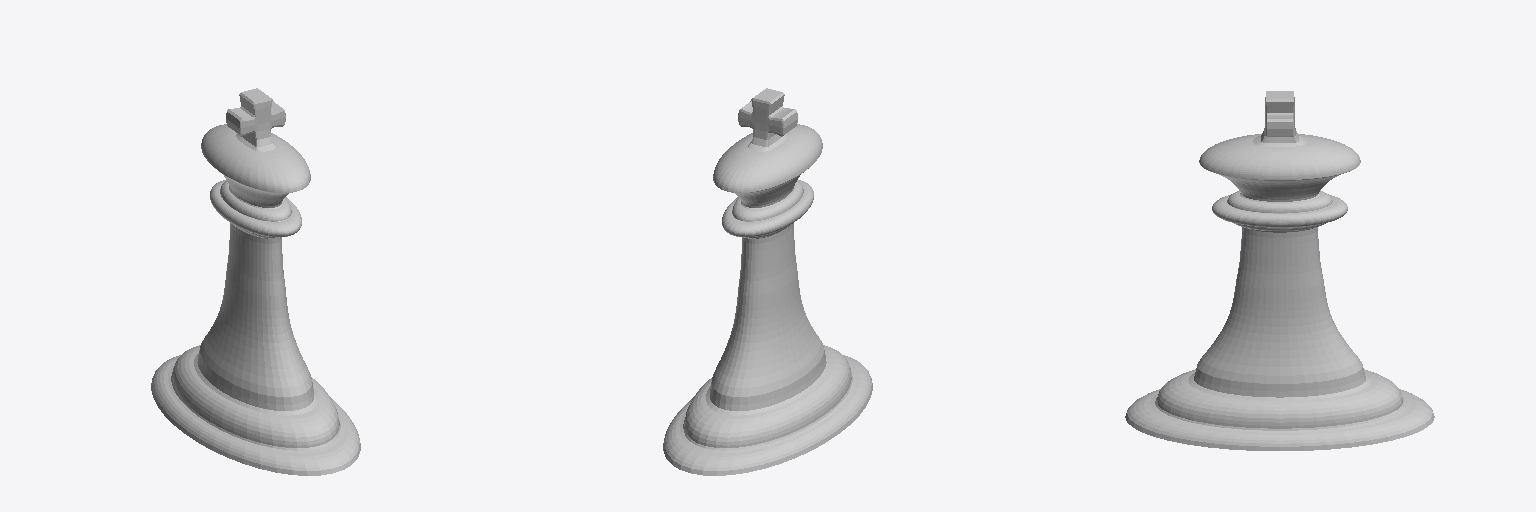
File: finalkingnear.obj
3 renders of one model, left to right at view 1: azimuth 30°, elevation 25°; view 2: azimuth 150°, elevation 25°; view 3: azimuth 270°, elevation 25°, orthographic.
Visible parts, largest first — view 1: white_king_Mesh.011; view 2: white_king_Mesh.011; view 3: white_king_Mesh.011.
Boxes of the visible parts, x1,y1,x2,y2 form: white_king_Mesh.011: [151, 88, 360, 475]; white_king_Mesh.011: [663, 88, 872, 475]; white_king_Mesh.011: [1125, 91, 1434, 450].
Bounding box in the file's own units: 0.4334 × 0.9381 × 0.8188.